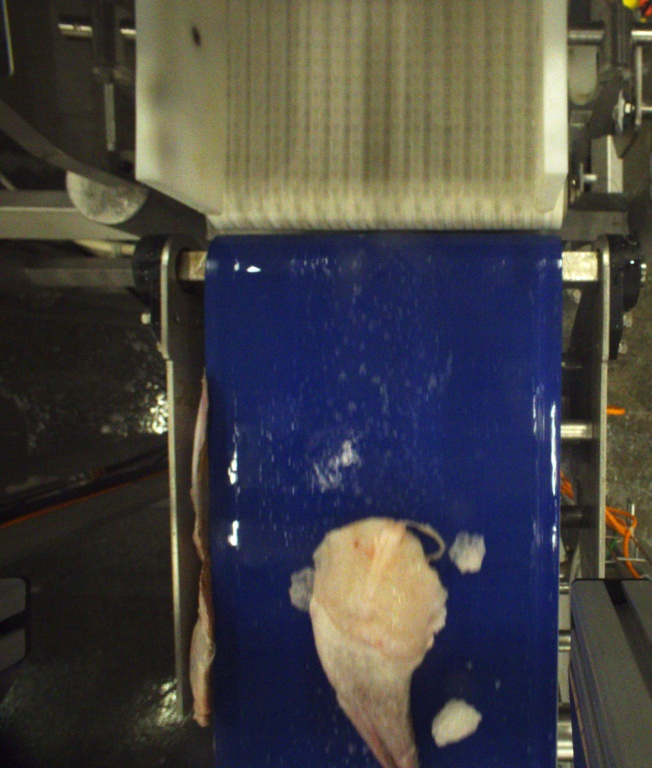ANF: (309, 516, 448, 764)
